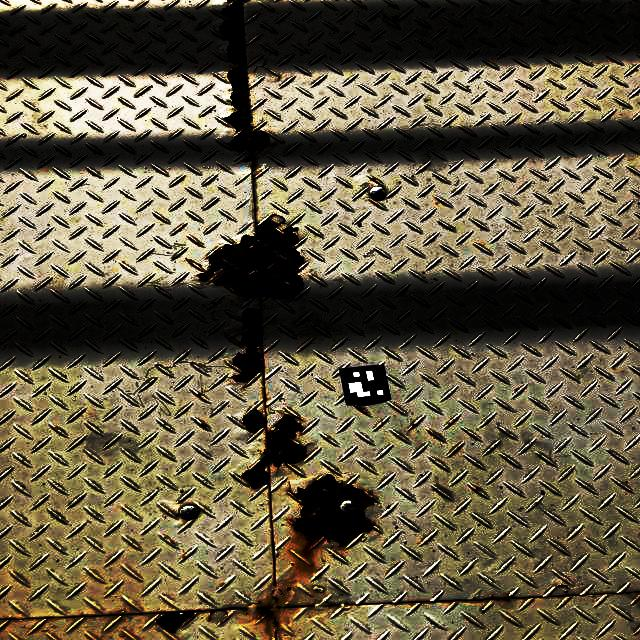Corrosion: (198, 219, 305, 299), (219, 0, 270, 161), (294, 475, 377, 547), (241, 415, 307, 490), (232, 308, 264, 383), (156, 613, 194, 634), (242, 409, 267, 433), (208, 608, 228, 625), (256, 608, 279, 620), (430, 430, 442, 440), (493, 596, 512, 601), (356, 405, 367, 413), (558, 584, 569, 590), (293, 415, 303, 420), (196, 393, 203, 398), (200, 423, 206, 428), (412, 423, 416, 427)
